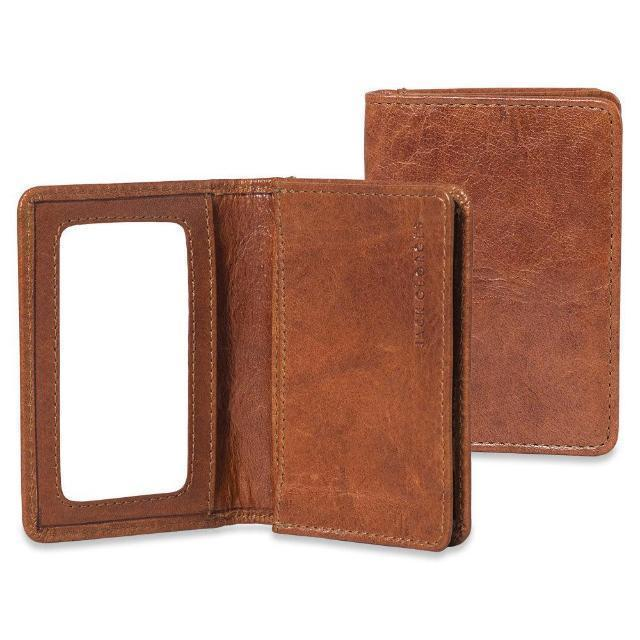wallet: (16, 177, 474, 561), (358, 84, 622, 466)
